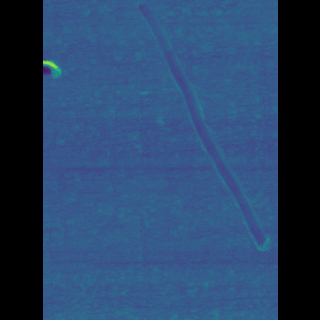Loch: (141, 0, 242, 254), (73, 55, 91, 80)
